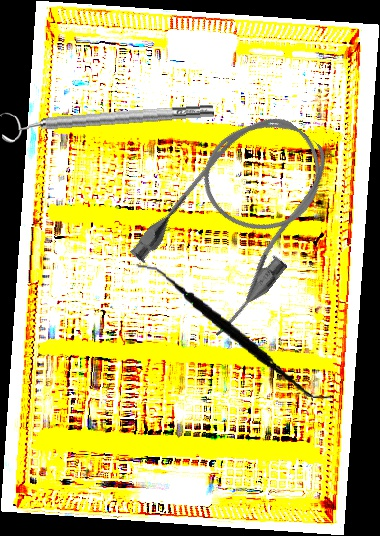Cannula: (122, 93, 359, 344)
Fixation Ring: (0, 95, 215, 144)
Spatula Surgical: (124, 262, 346, 400)
